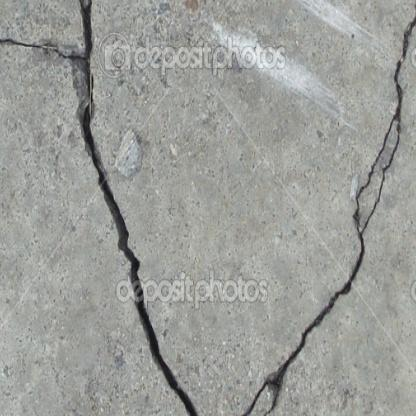Cracks: (227, 0, 416, 416), (78, 102, 204, 416), (54, 0, 94, 99), (0, 36, 43, 50)
